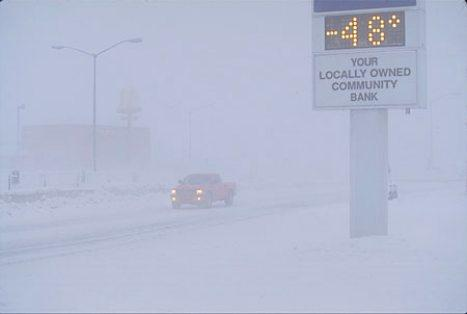car: (170, 171, 237, 208)
